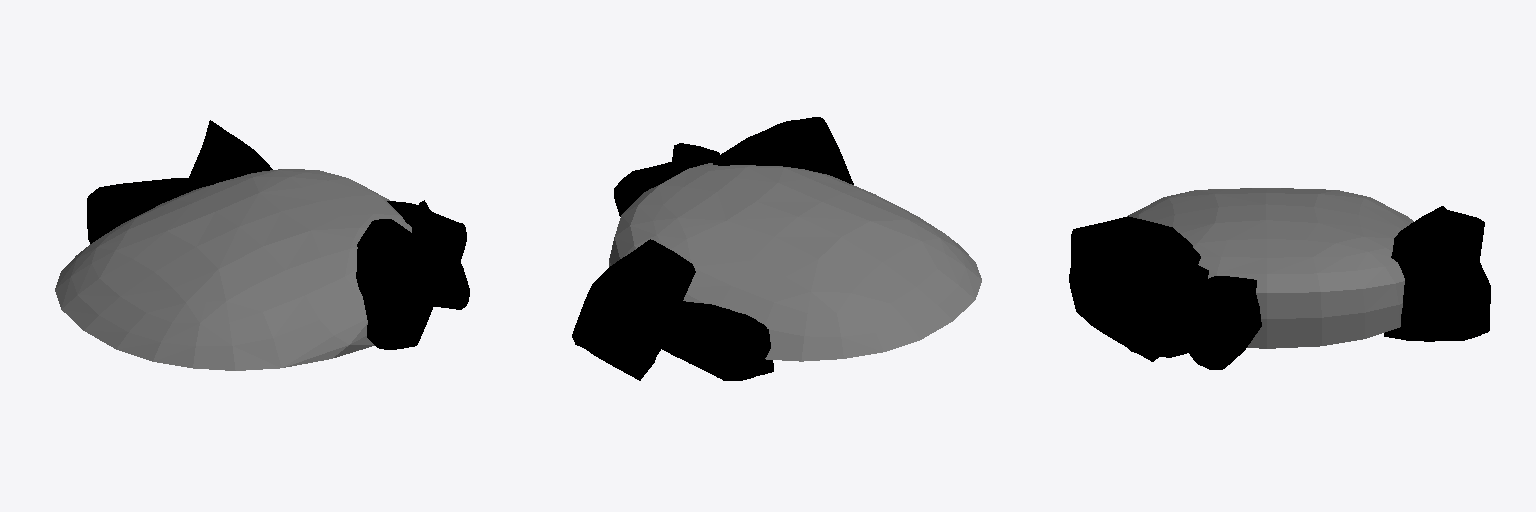
Rendered from sm_05x_hillCliff_1.OBJ.
3 views of the same model, side by side, from view 1: azimuth 30°, elevation 25°; view 2: azimuth 150°, elevation 25°; view 3: azimuth 270°, elevation 25° (orthographic).
Parts seen in each view (by area): view 1: ZBrushPolyMesh3D7; view 2: ZBrushPolyMesh3D7; view 3: ZBrushPolyMesh3D7.
Boxes of the visible parts, <box> form: ZBrushPolyMesh3D7: <box>55,120,469,370</box>; ZBrushPolyMesh3D7: <box>572,117,981,380</box>; ZBrushPolyMesh3D7: <box>1069,188,1490,369</box>.
Size of the model in its own units: 2.69 by 0.9659 by 2.75.